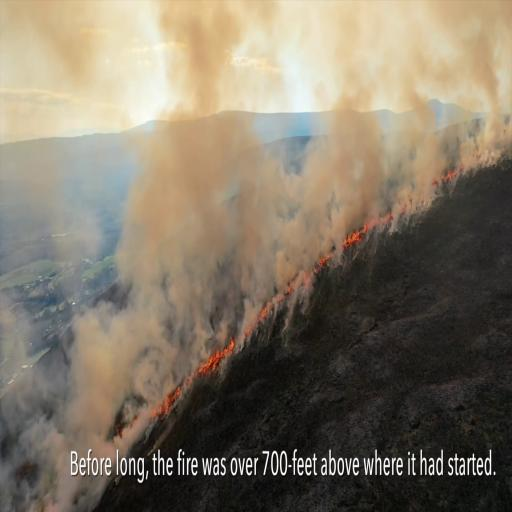smoke: (329, 110, 379, 220), (80, 318, 135, 411), (405, 60, 443, 184), (474, 22, 502, 144), (235, 179, 257, 307), (272, 172, 289, 279), (310, 163, 316, 258)
